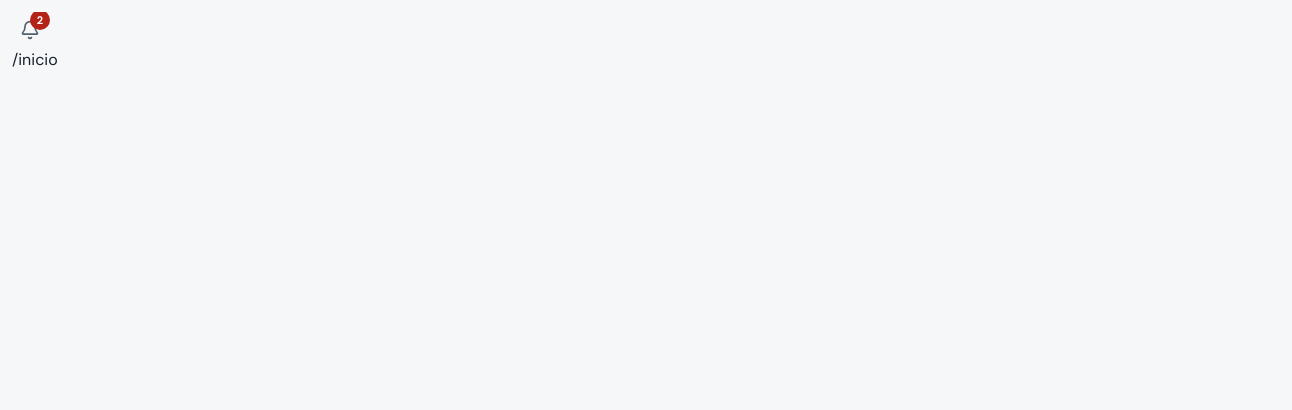
Test: CampanaAvisos (S4-06, HU-07.1) › lista los avisos con folio y marca los de alta importancia
Click the button named "Avisos, 2 sin leer" at (30,30), box [12,12,48,48]
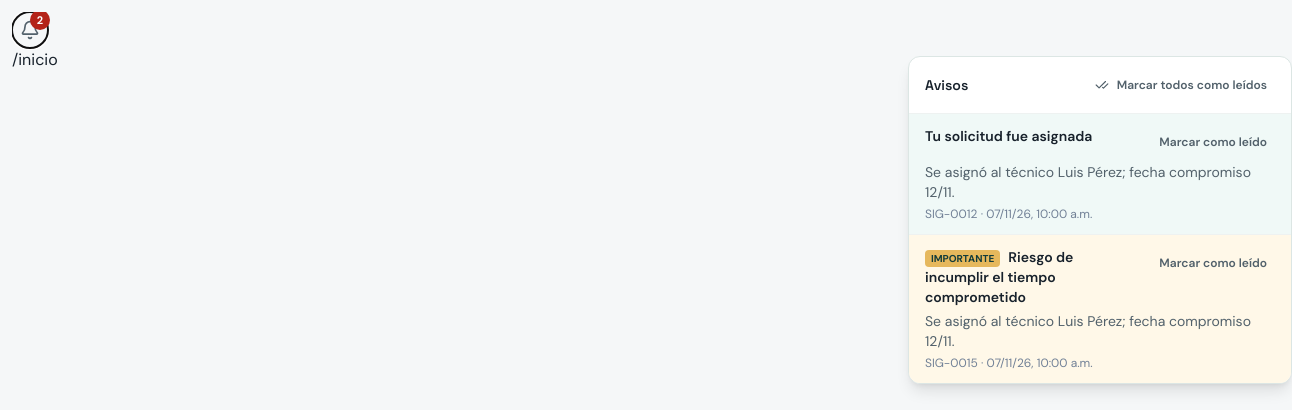
expect the link "Tu solicitud fue asignada" is shown: met, box [925,127,1092,145]
expect the text "SIG-0012 ·" is shown: met, box [925,206,986,222]
expect the link "Riesgo de incumplir el tiempo comprometido" is shown: met, box [925,248,1073,306]
